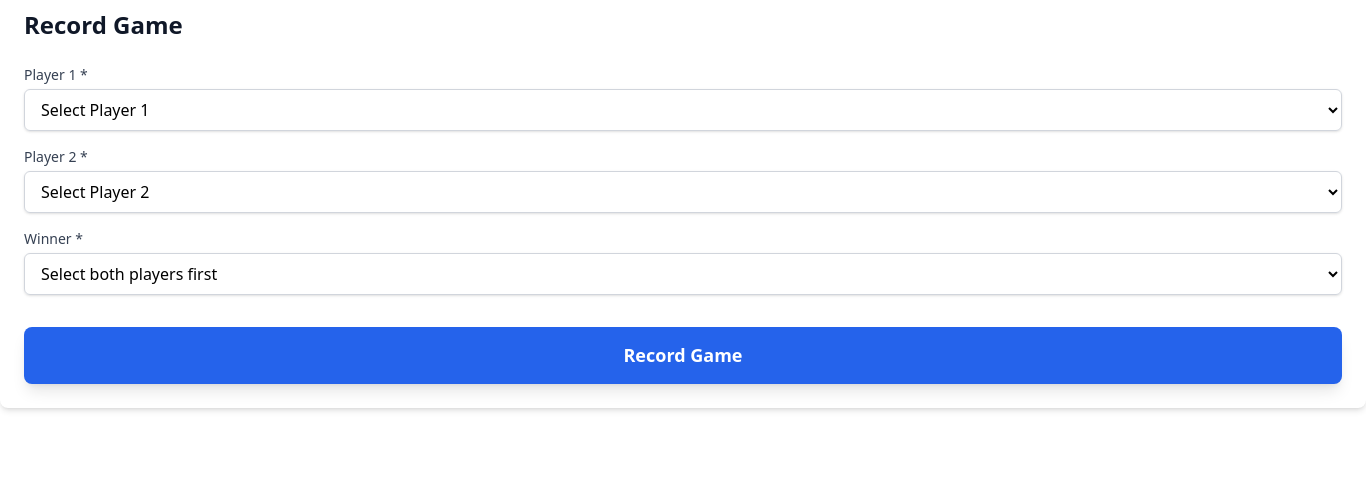
Test: AddGameForm › handles API errors gracefully
Select "Player 1" in the dropdown labelled "Player 1 *" at point(683, 110), box 24,89 -> 1342,131
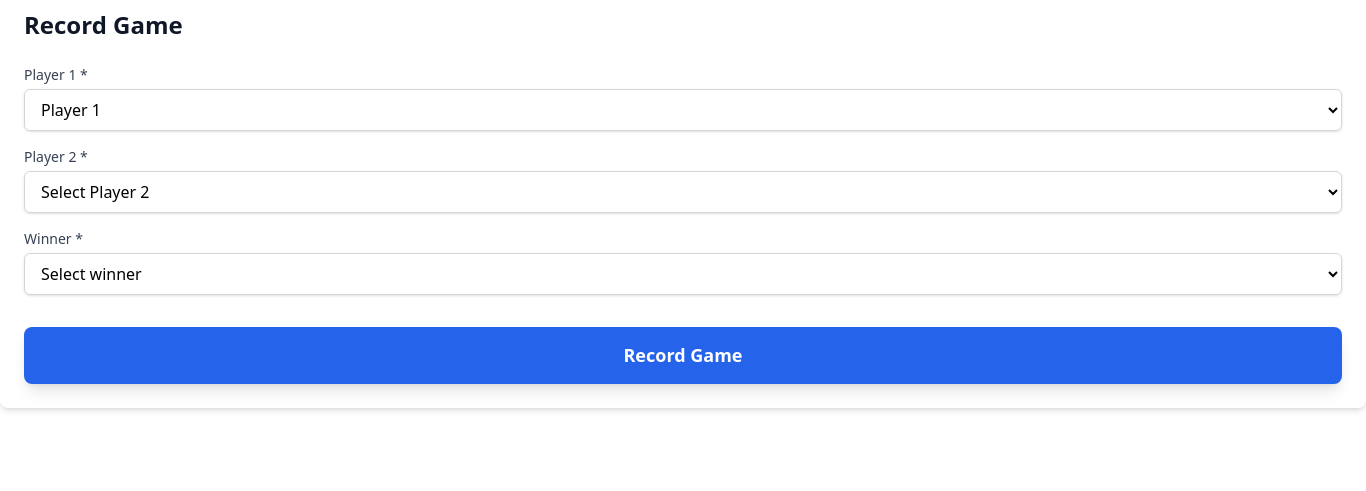
Select "Player 2" in the dropdown labelled "Player 2 *" at point(683, 192), box 24,171 -> 1342,213
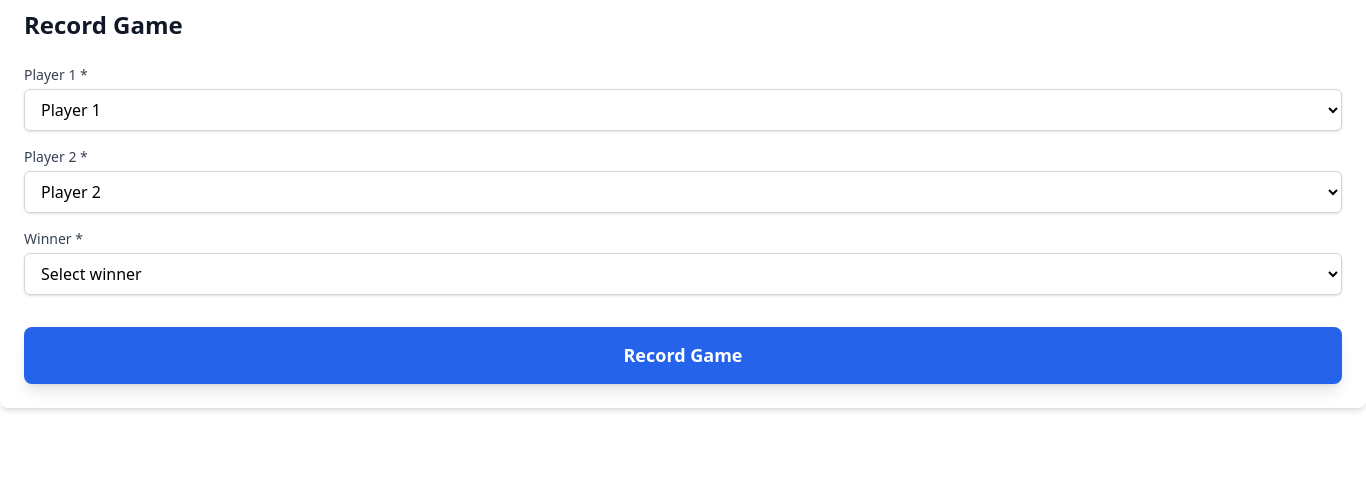
Select "Player 1" in the dropdown labelled "Winner *" at point(683, 274), box 24,253 -> 1342,295
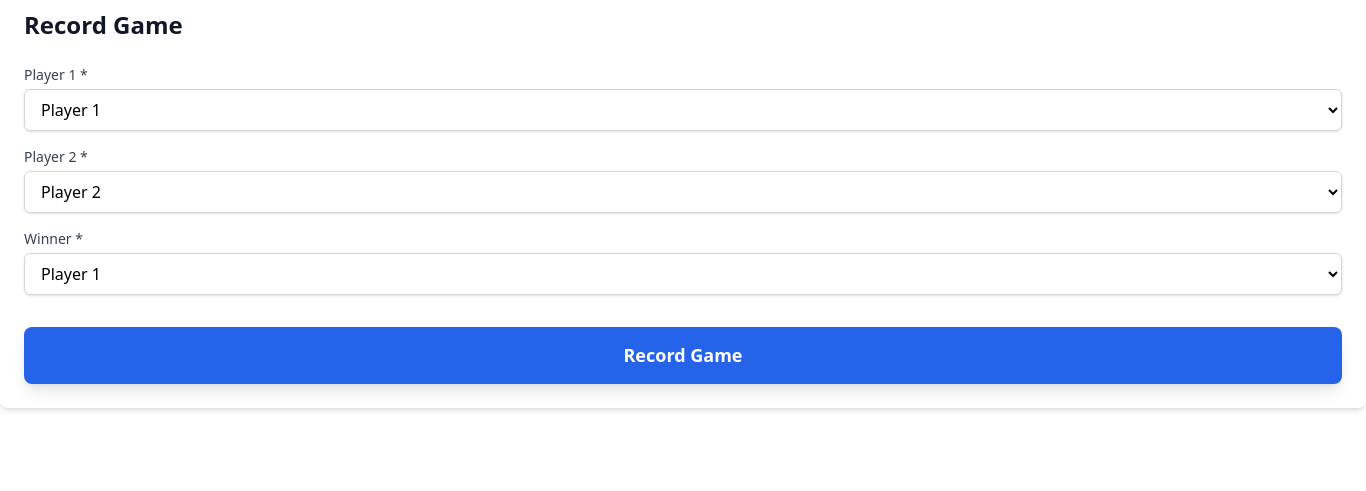
Click the button "Record Game".
click(683, 355)  # box 24,327 -> 1342,384
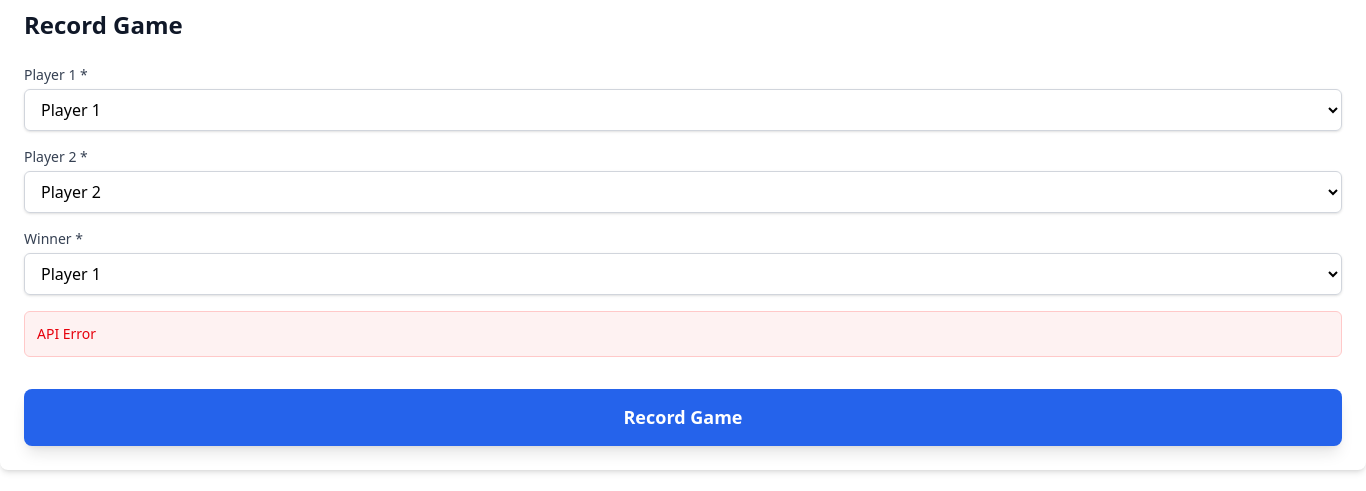
Check: the text "API Error" is shown, box 37,324 -> 96,343
